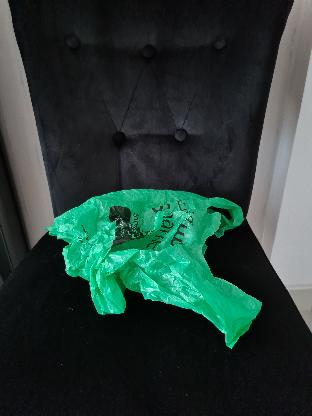Plastic Bag: (45, 187, 265, 349)
